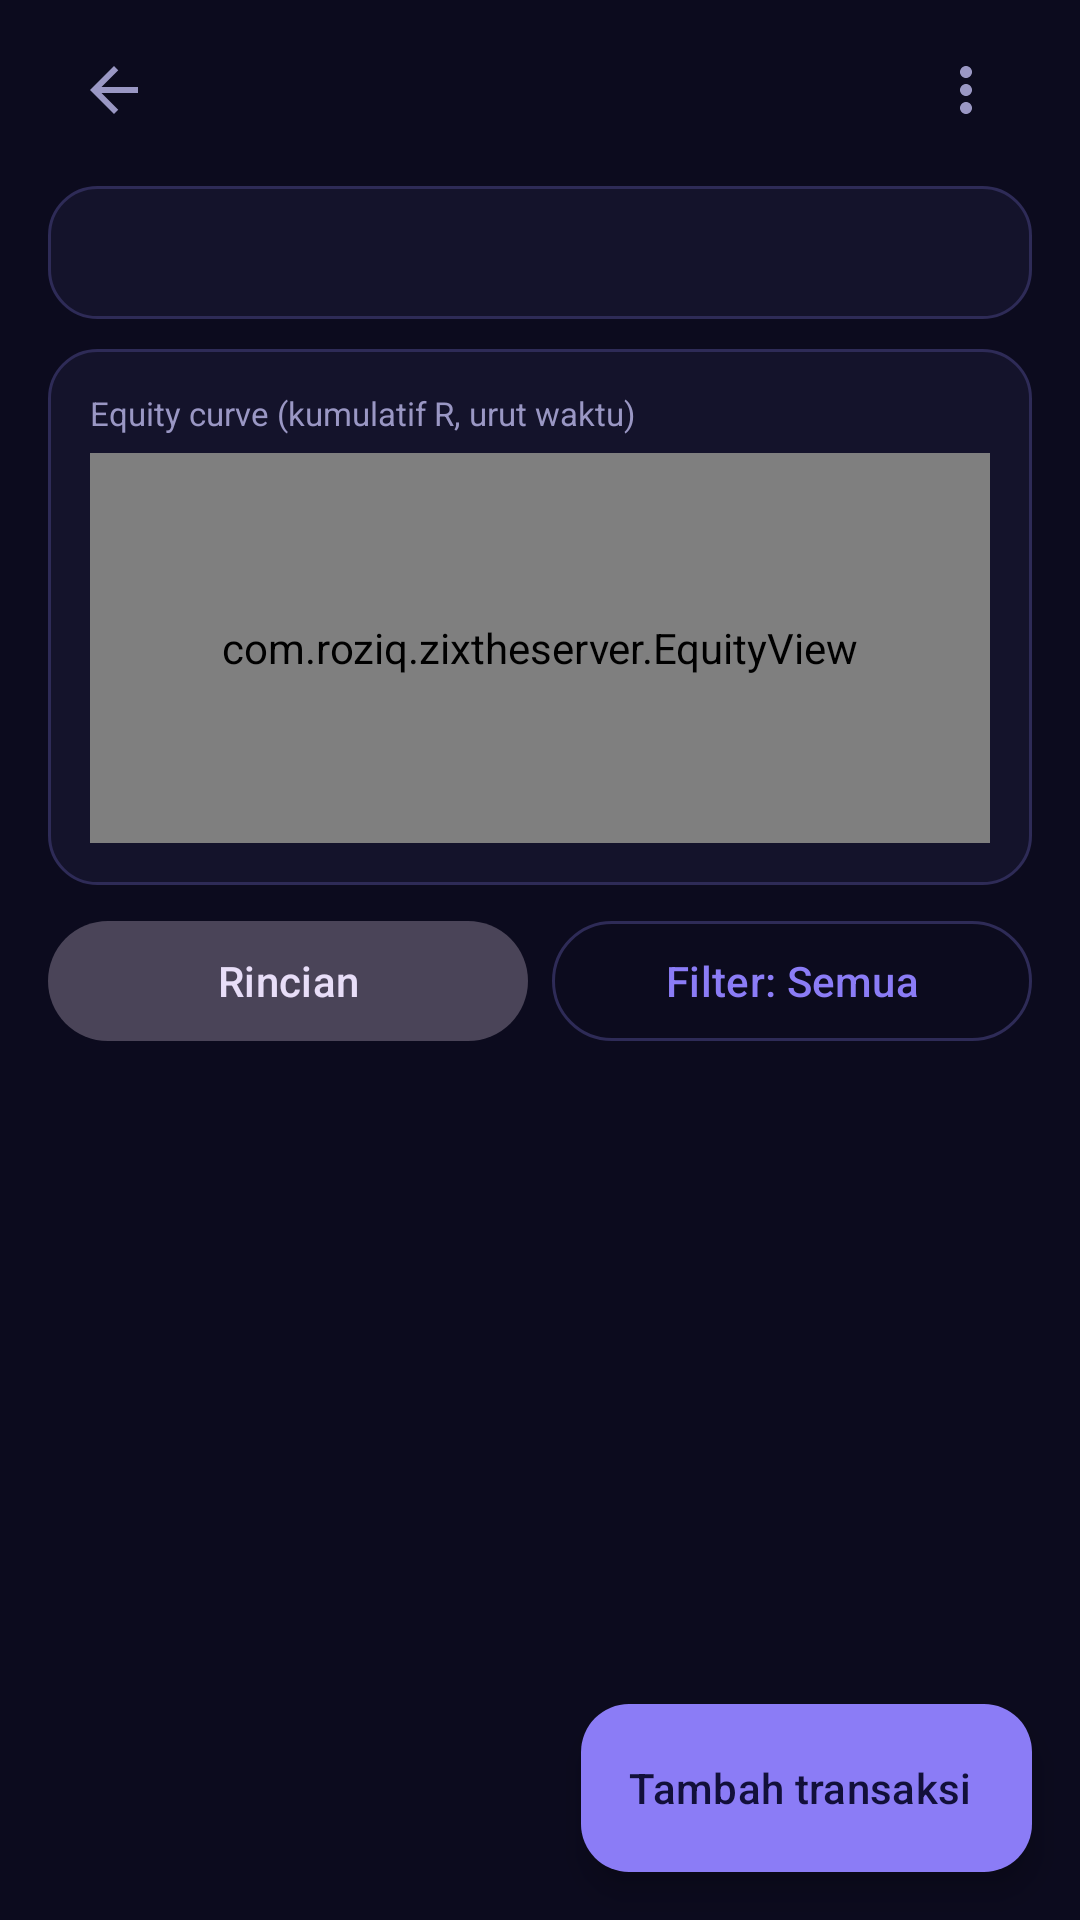

Icons on this 1080*1920 Android screen, each with its box as (x1, y1, x2, y2):
Kembali: (90, 66, 138, 114)
Menu: (960, 66, 972, 114)
